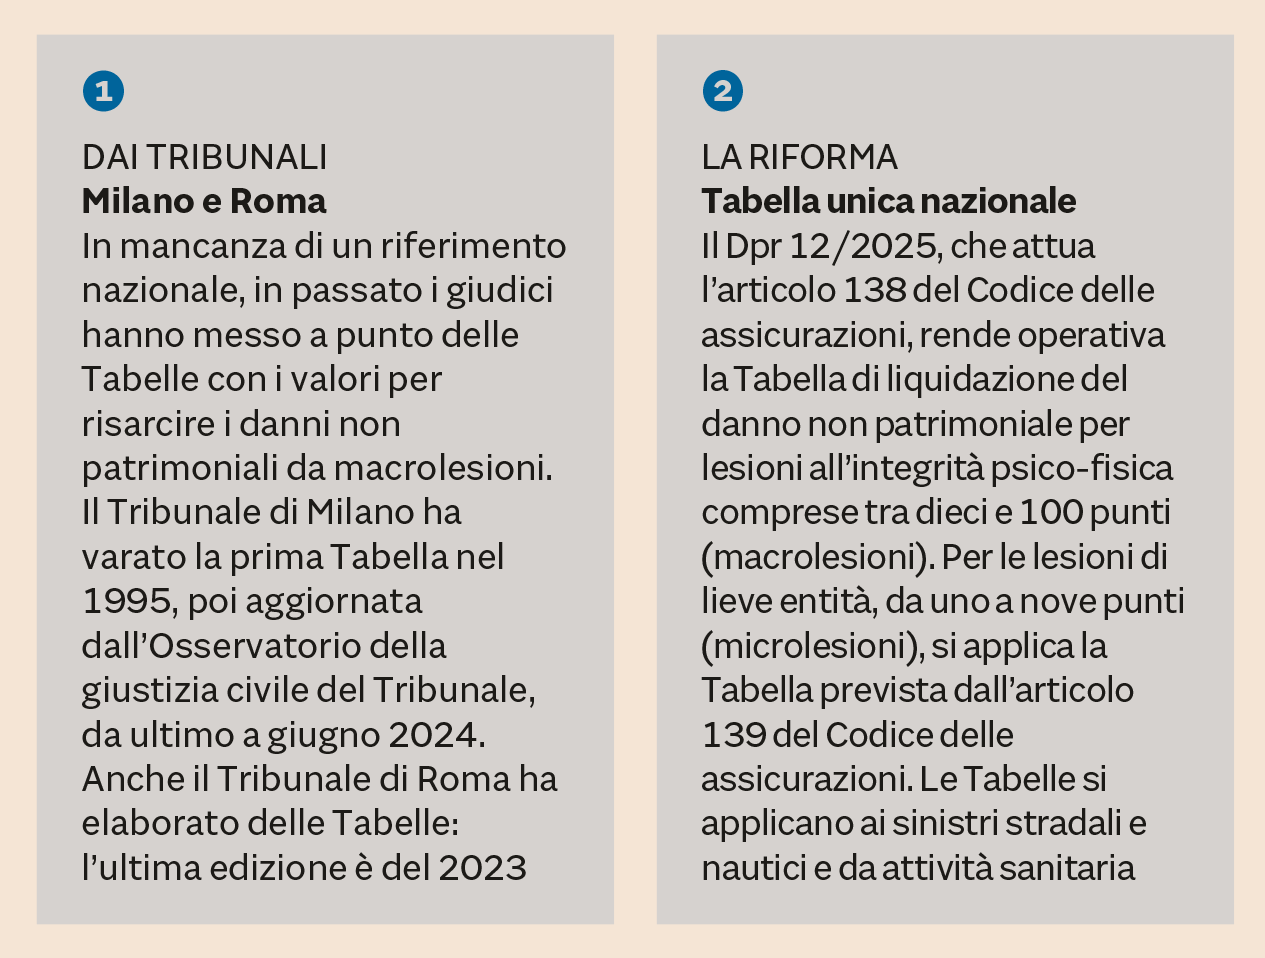scheda-puntata-numero-2: (39, 39, 609, 917), (661, 42, 1231, 920)
